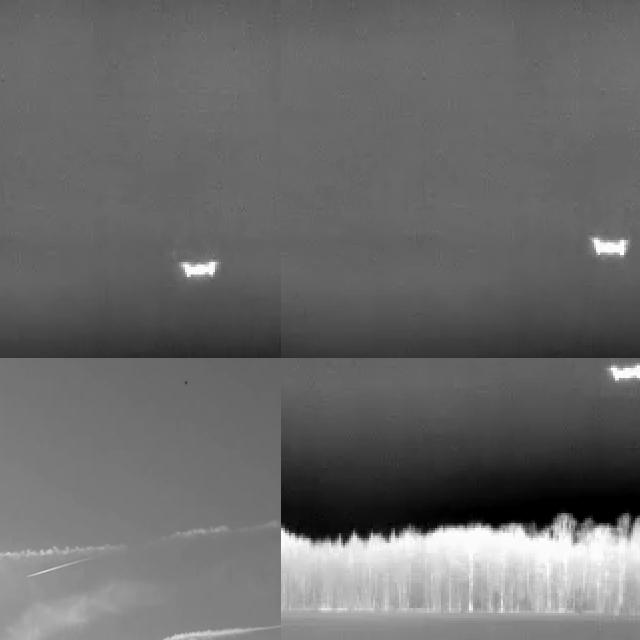1: (171, 254, 231, 288), (582, 231, 640, 266), (598, 358, 640, 391)
drone: (183, 374, 192, 396)
